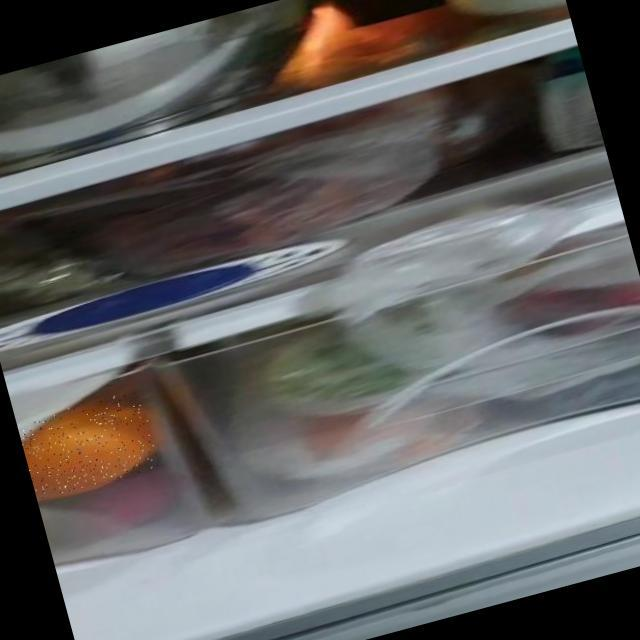orange: (16, 389, 160, 499)
